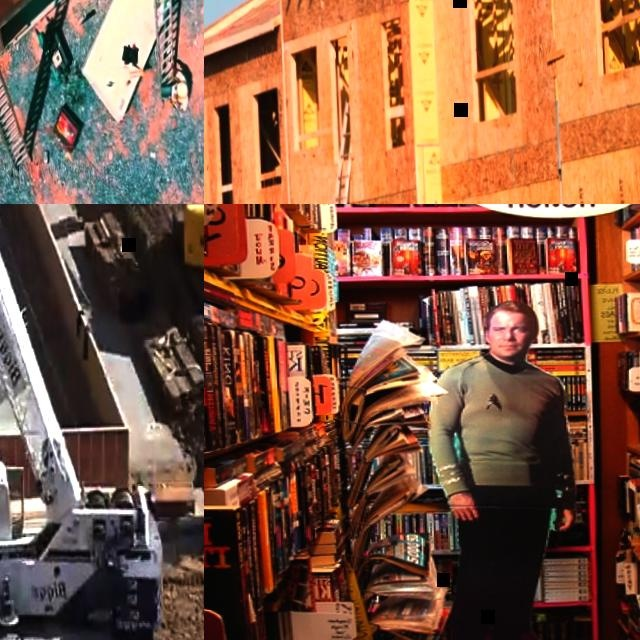Hardhat: (175, 81, 187, 97)
Person: (169, 62, 188, 112)
machinery: (0, 204, 169, 640), (173, 204, 204, 322)
